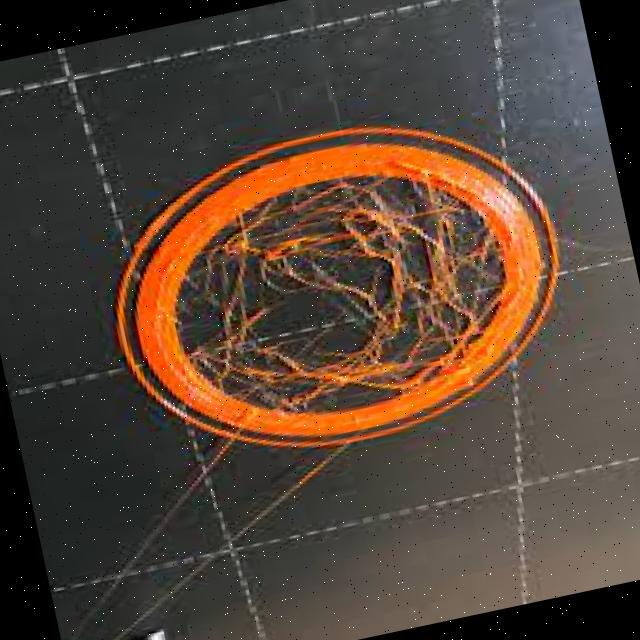spaghetti: (191, 157, 512, 420)
